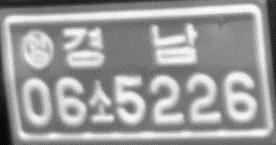0: (20, 76, 53, 127)
2: (185, 71, 223, 126), (149, 73, 185, 127)
5: (113, 73, 146, 127)
6: (222, 68, 258, 126), (55, 75, 88, 128)
경남_D: (61, 22, 199, 69)
소: (88, 79, 116, 124)
영: (19, 29, 56, 70)
